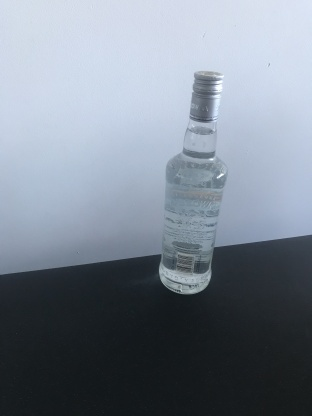nakretka: (187, 67, 225, 124)
